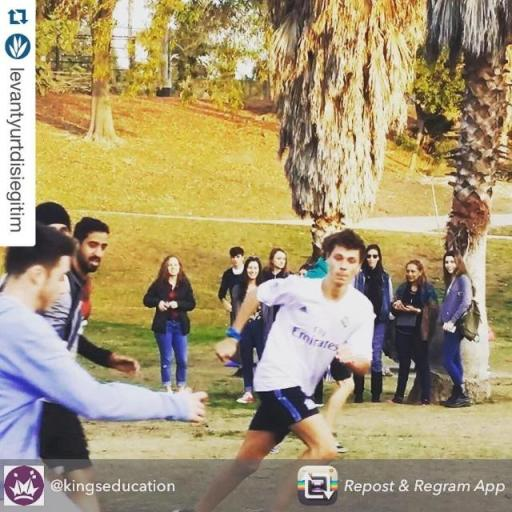Emirates: (290, 323, 340, 357)
